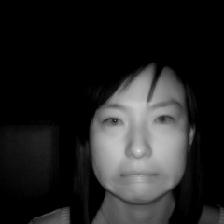sad: (82, 45, 194, 199)
